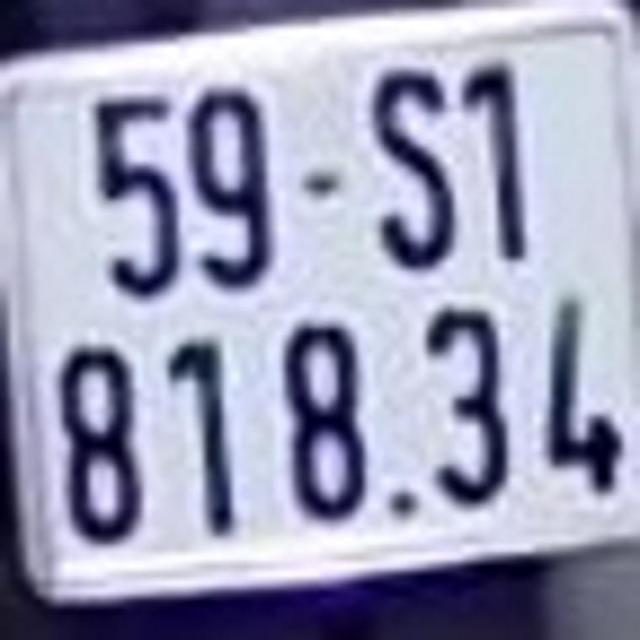1: (165, 336, 241, 533), (462, 58, 532, 264)
3: (427, 295, 511, 506)
4: (537, 282, 627, 500)
5: (91, 90, 184, 301)
8: (53, 342, 147, 548), (280, 317, 370, 522)
9: (187, 80, 277, 296)
S: (371, 65, 457, 274)
